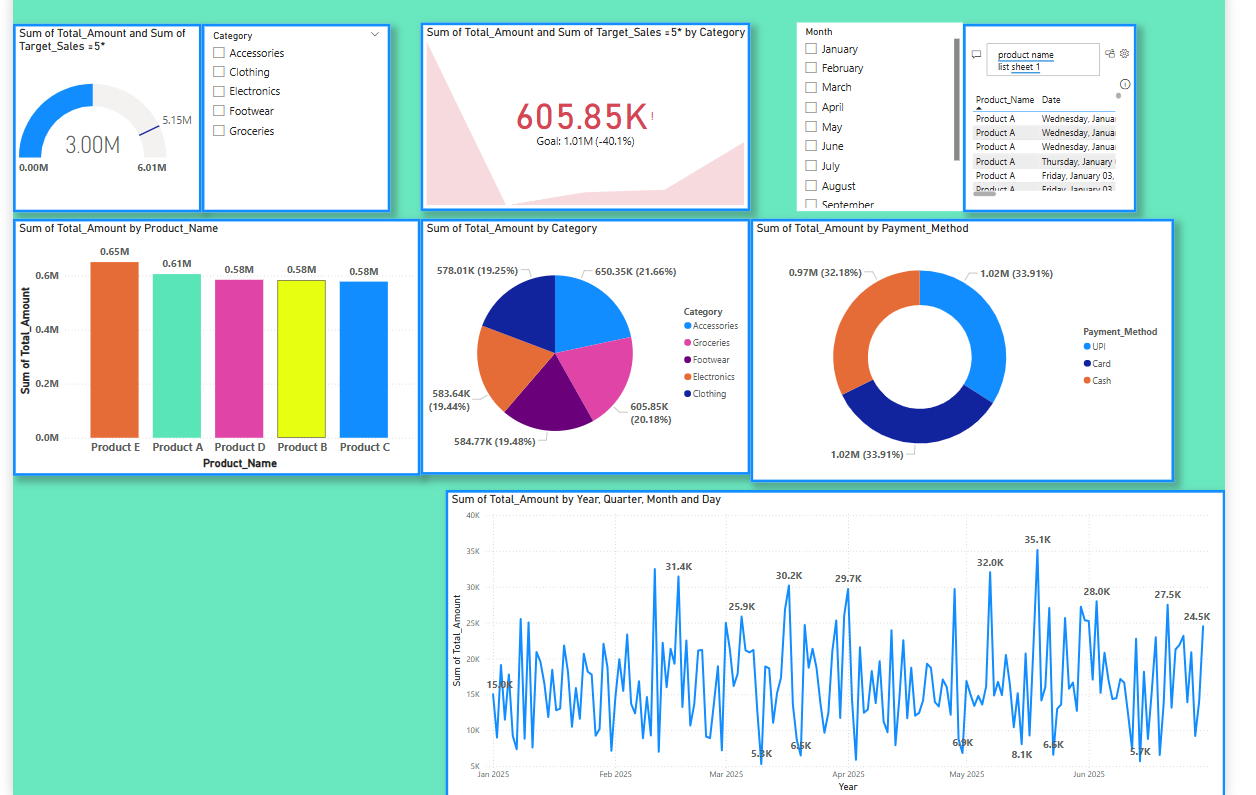

The dashboard page shown, as its layout file describes it:
{"tool":"powerbi","page":{"name":"Page 1","canvas":[1800,1400],"ordinal":0},"visuals":[{"type":"gauge","fields":{"Y":["Sum(Sheet1.Total_Amount)"],"TargetValue":["Sum(Sheet1.Target_Sales =5*)"]},"box":[0,268.4,279.2,279.2],"z":0},{"type":"slicer","fields":{"Values":["Sheet1.Category"]},"box":[303,268.4,281.4,279.2],"z":1000},{"type":"kpi","fields":{"Indicator":["Sum(Sheet1.Total_Amount)"],"Goal":["Sum(Sheet1.Target_Sales =5*)"],"TrendLine":["Sheet1.Category"]},"box":[625.5,270.6,491.3,281.4],"z":2000},{"type":"clusteredColumnChart","fields":{"Category":["Sheet1.Product_Name"],"Y":["Sum(Sheet1.Total_Amount)"]},"box":[0,560.6,606.1,381],"z":3000},{"type":"pieChart","fields":{"Category":["Sheet1.Category"],"Y":["Sum(Sheet1.Total_Amount)"]},"box":[625.5,560.6,491.3,381],"z":5000},{"type":"donutChart","fields":{"Y":["Sum(Sheet1.Total_Amount)"],"Category":["Sheet1.Payment_Method"]},"box":[1121.2,549.8,627.7,391.8],"z":6000},{"type":"lineChart","fields":{"Y":["Sum(Sheet1.Total_Amount)"],"Category":["Sheet1.Date.Variation.Date Hierarchy.Year","Sheet1.Date.Variation.Date Hierarchy.Quarter","Sheet1.Date.Variation.Date Hierarchy.Month","Sheet1.Date.Variation.Date Hierarchy.Day"]},"box":[645,941.6,1155.8,458.9],"z":7000},{"type":"slicer","fields":{"Values":["Sheet1.Date.Variation.Date Hierarchy.Month"]},"box":[1140.7,270.6,246.8,279.2],"z":8000},{"type":"textbox","title":"S","box":[41.1,0,1181.8,203.5],"z":8001}]}

Visuals, with their boxes on the page's 1800x1400 design canvas (x1, y1, x2, y2). These are canvas units, not pixel positions in the 1256x795 screenshot, which may show the page scaled, cropped or inside an application window:
gauge - Sum(Sheet1.Total_Amount) x Sum(Sheet1.Target_Sales =5*): 0:268:279:548
slicer - Sheet1.Category: 303:268:584:548
kpi - Sum(Sheet1.Total_Amount) x Sum(Sheet1.Target_Sales =5*): 626:271:1117:552
clusteredColumnChart - Sheet1.Product_Name x Sum(Sheet1.Total_Amount): 0:561:606:942
pieChart - Sheet1.Category x Sum(Sheet1.Total_Amount): 626:561:1117:942
donutChart - Sum(Sheet1.Total_Amount) x Sheet1.Payment_Method: 1121:550:1749:942
lineChart - Sum(Sheet1.Total_Amount) x Sheet1.Date.Variation.Date Hierarchy.Year: 645:942:1801:1400
slicer - Sheet1.Date.Variation.Date Hierarchy.Month: 1141:271:1388:550
"S" textbox: 41:0:1223:204
